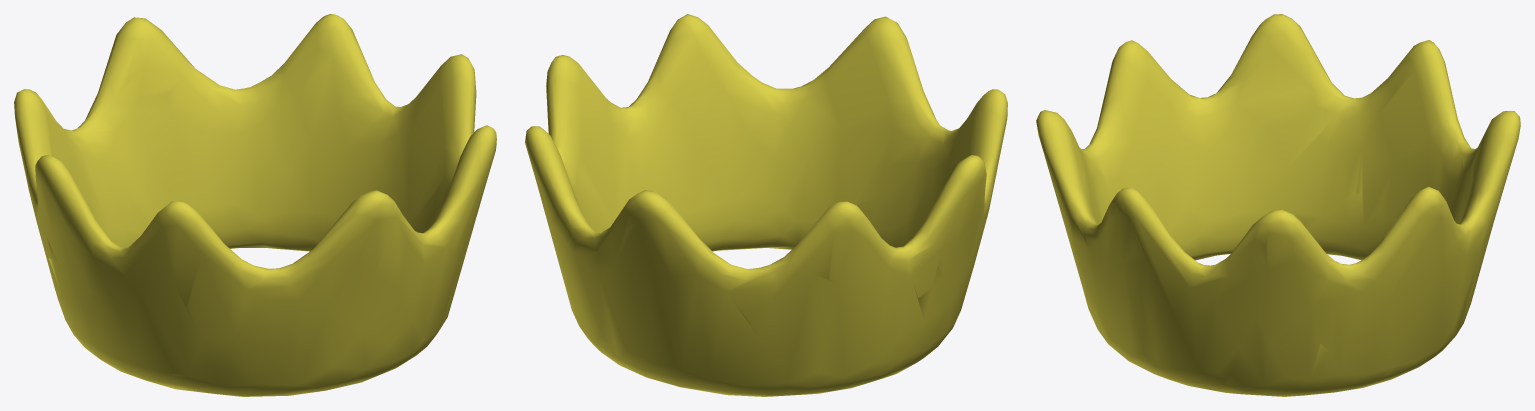
File: crown.glb
The picture shows the model from 3 angles, left to right: view 1: azimuth 30°, elevation 25°; view 2: azimuth 150°, elevation 25°; view 3: azimuth 270°, elevation 25°; orthographic projection. The views are drawn at different scales.
Visible parts, largest first — view 1: crown; view 2: crown; view 3: crown.
Part boxes in pixels (x1,y1,x2,y2): crown: (14, 14, 496, 396); crown: (525, 14, 1007, 396); crown: (1036, 14, 1520, 396).
Bounding box in the file's own units: 0.4537 × 0.2198 × 0.4555.
